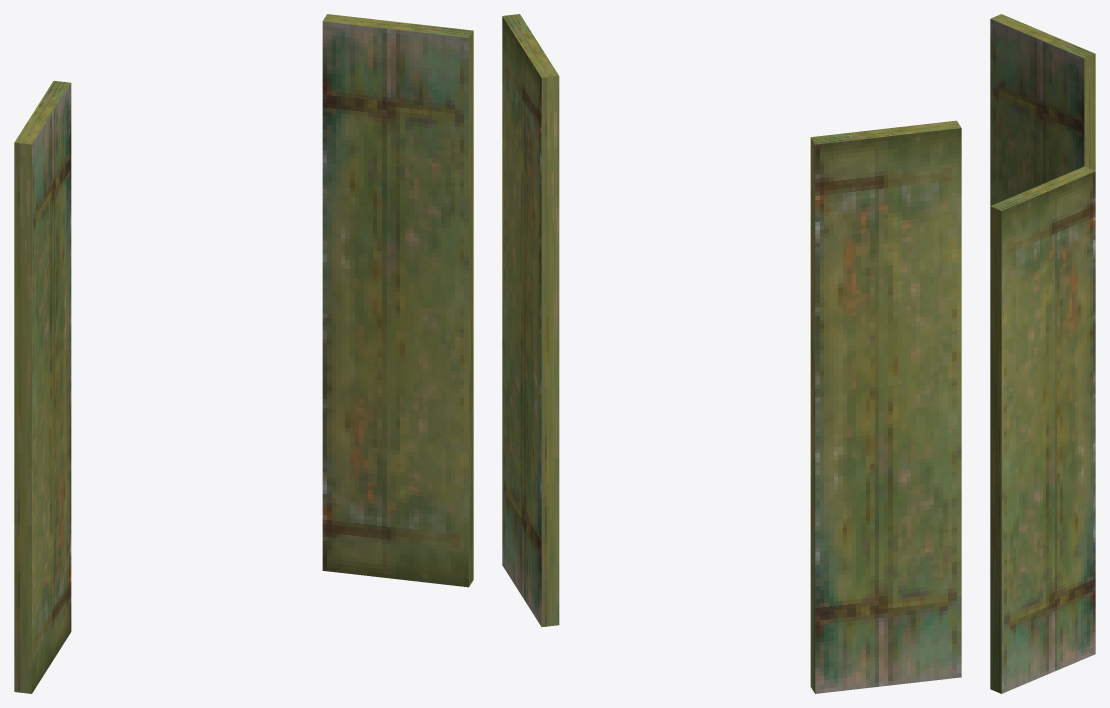
Rendered from shutters_single_open_01.glb.
3 renders of one model, left to right at view 1: azimuth 30°, elevation 25°; view 2: azimuth 150°, elevation 25°; view 3: azimuth 270°, elevation 25°, orthographic. The views are drawn at different scales.
Visible parts, largest first — view 1: shutters_single_open_012; view 2: shutters_single_open_012; view 3: shutters_single_open_012.
Boxes of the visible parts, x1=… form: shutters_single_open_012: x1=14, y1=14, x2=473, y2=693; shutters_single_open_012: x1=502, y1=14, x2=961, y2=693; shutters_single_open_012: x1=990, y1=14, x2=1095, y2=693.
Size of the model in its own units: 1.75 by 2 by 0.396.
1 material, 1 textured.
